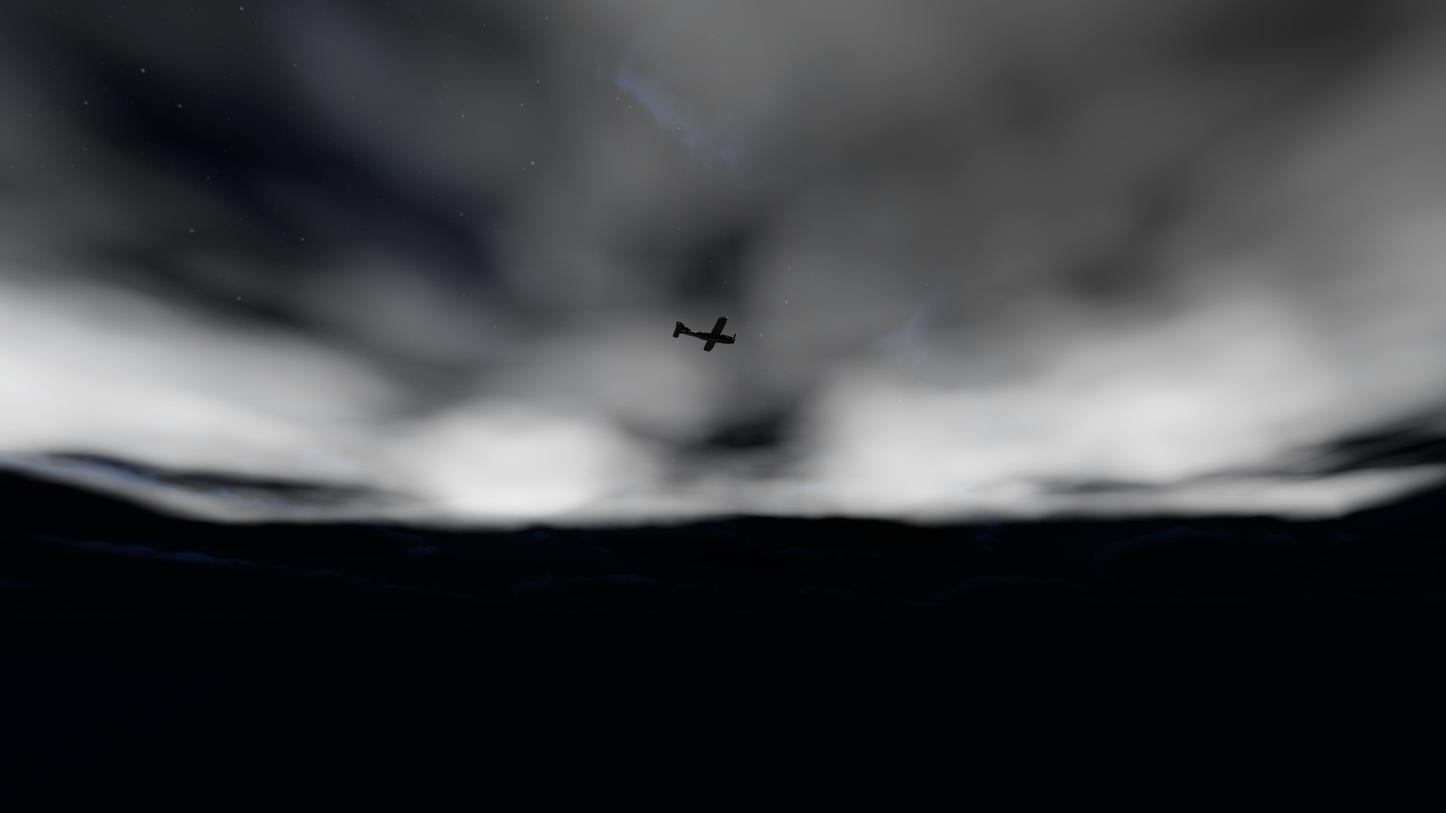drone_other: (673, 317, 736, 352)
